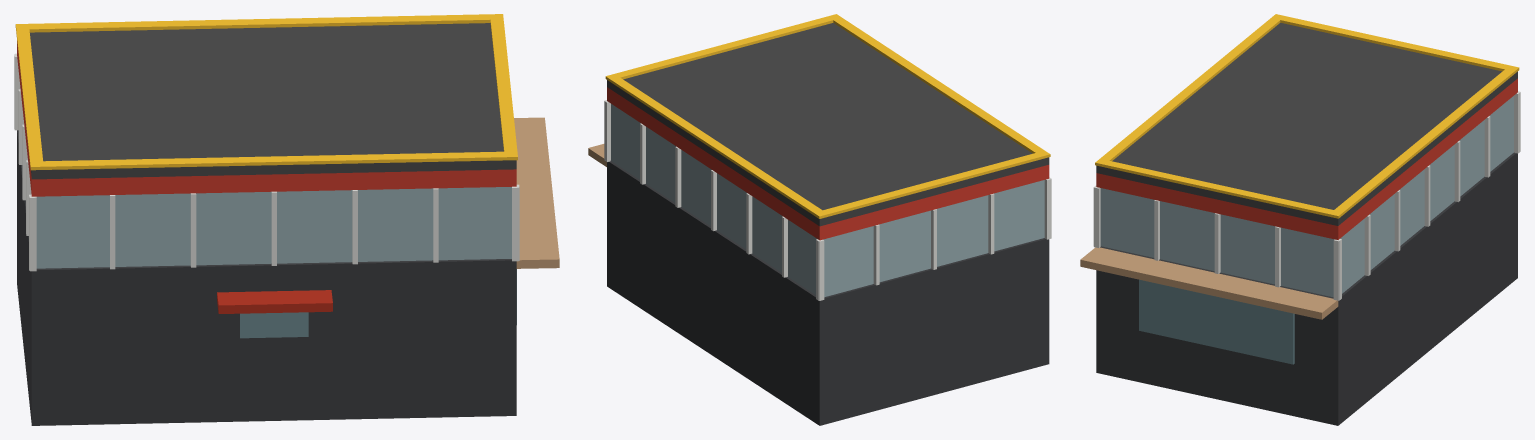
Rendered from mcdonalds-xitun.glb.
3 views of the same model, side by side, from view 1: azimuth 30°, elevation 25°; view 2: azimuth 150°, elevation 25°; view 3: azimuth 270°, elevation 25° (orthographic). The views are drawn at different scales.
Visible parts, largest first — view 1: mcdonalds-xitun; view 2: mcdonalds-xitun; view 3: mcdonalds-xitun.
Part boxes in pixels (bbox=[...]): mcdonalds-xitun: bbox=[14, 14, 559, 425]; mcdonalds-xitun: bbox=[588, 14, 1051, 425]; mcdonalds-xitun: bbox=[1080, 14, 1520, 425].
Size of the model in its own units: 26.33 by 12 by 22.76.
